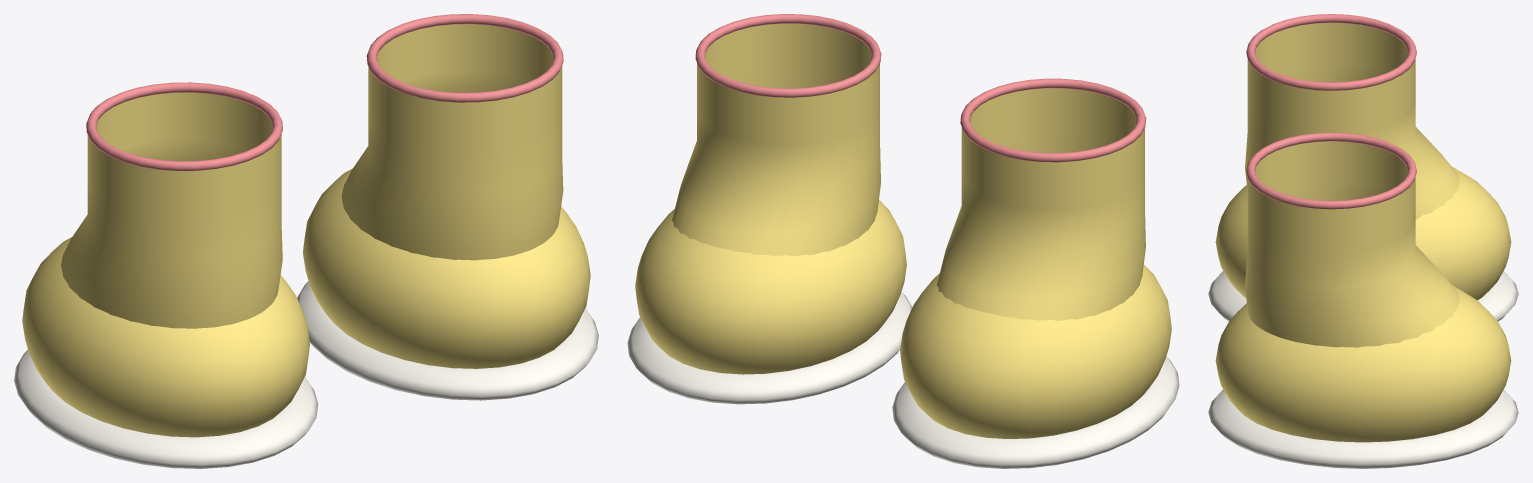
File: rain_boots.glb
3 views of the same model, side by side, from view 1: azimuth 30°, elevation 25°; view 2: azimuth 150°, elevation 25°; view 3: azimuth 270°, elevation 25° (orthographic). The views are drawn at different scales.
Visible parts, largest first — view 1: LegL, LegR; view 2: LegL, LegR; view 3: LegR, LegL.
Boxes of the visible parts, x1,y1,x2,y2 form: LegL: (14, 82, 318, 468); LegR: (297, 14, 598, 400); LegL: (892, 78, 1179, 468); LegR: (627, 14, 912, 404); LegR: (1208, 132, 1518, 468); LegL: (1208, 14, 1518, 321).
Size of the model in its own units: 0.4129 by 0.2233 by 0.2436.
